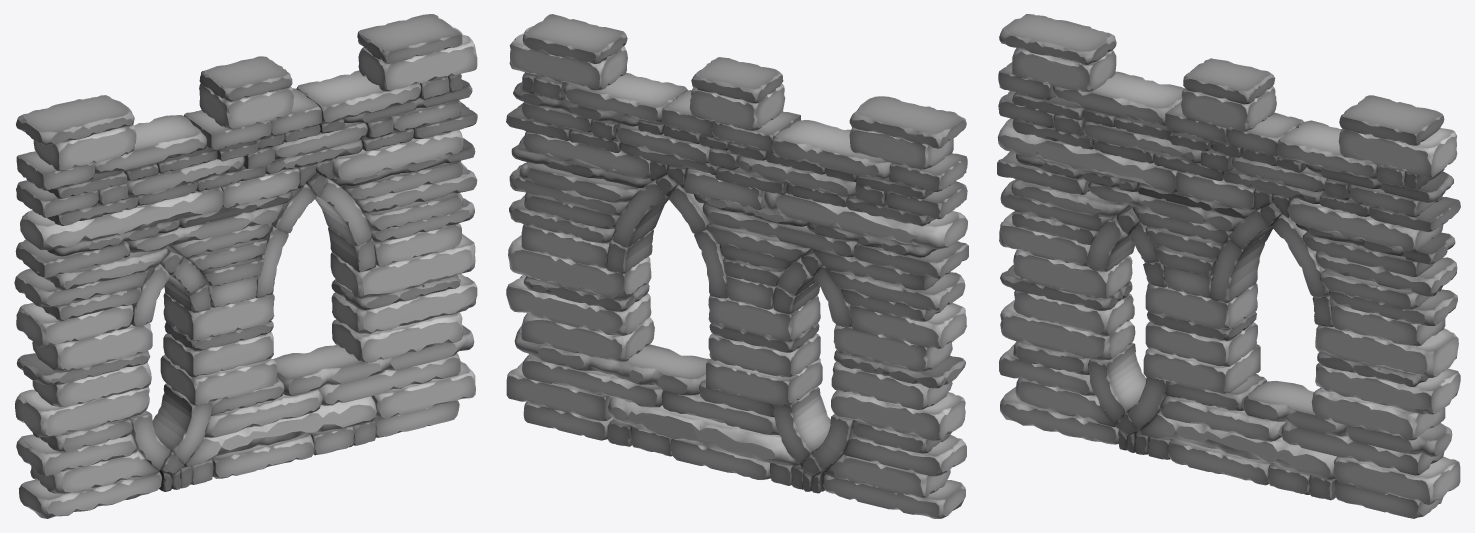
The model's file is MESH_BrickWall_wTwoArches.glb.
3 views of the same model, side by side, from view 1: azimuth 30°, elevation 25°; view 2: azimuth 150°, elevation 25°; view 3: azimuth 330°, elevation 25° (orthographic).
Parts seen in each view (by area): view 1: MESH_BrickWall_wTwoArches; view 2: MESH_BrickWall_wTwoArches; view 3: MESH_BrickWall_wTwoArches.
Boxes of the visible parts, x1,y1,x2,y2 form: MESH_BrickWall_wTwoArches: (14, 14, 477, 518); MESH_BrickWall_wTwoArches: (506, 14, 968, 518); MESH_BrickWall_wTwoArches: (997, 14, 1460, 518).
Bounding box in the file's own units: 11.35 × 9.69 × 1.59.
Materials: 1 (1 with a texture image).
